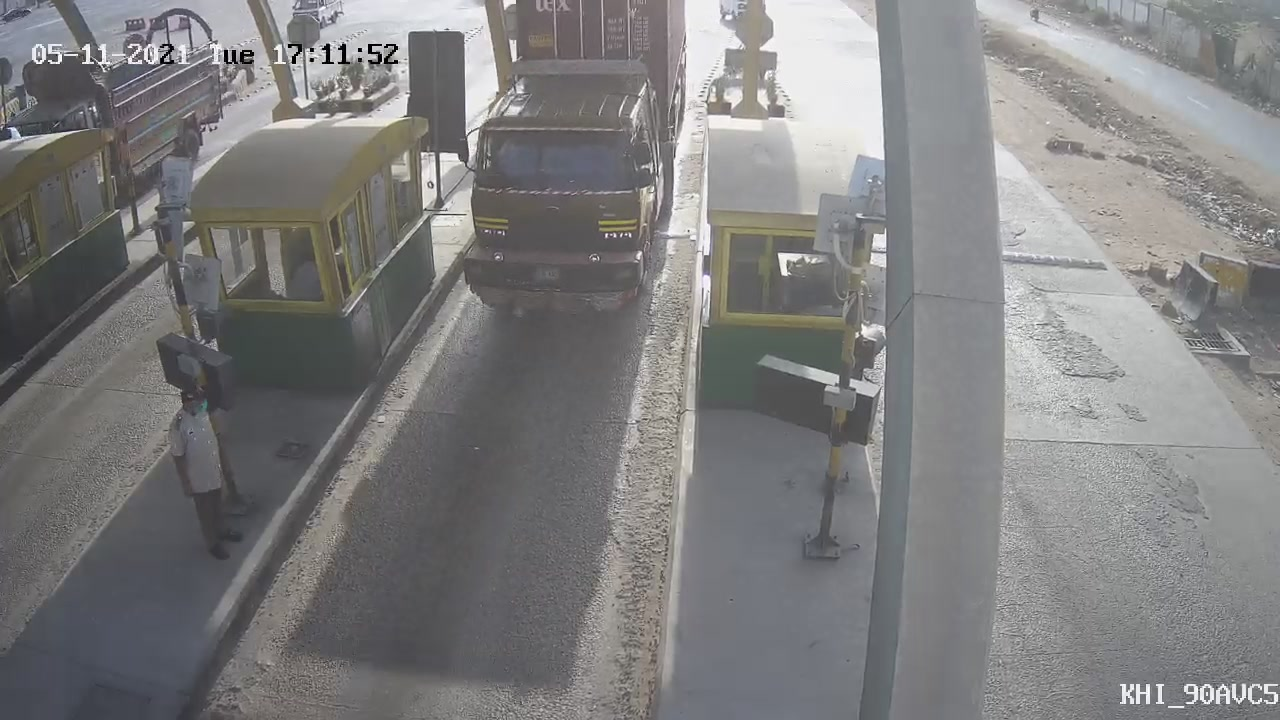F6: (431, 1, 714, 342)
